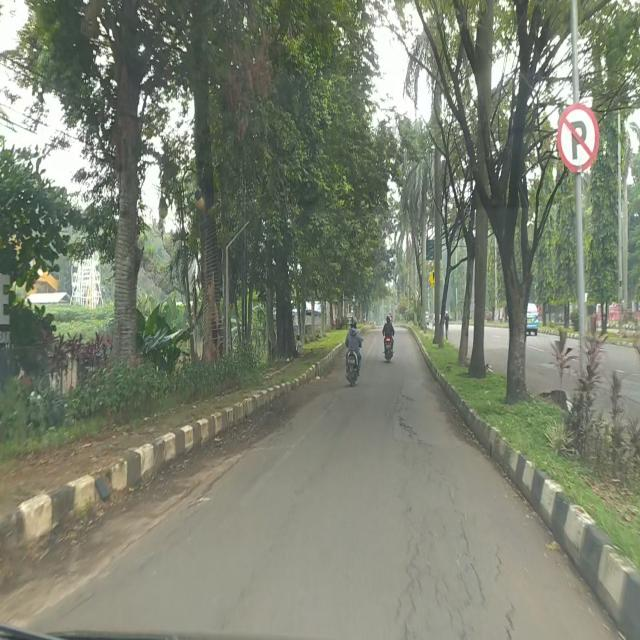Drain Hole: (400, 466, 510, 640), (390, 391, 425, 442)
